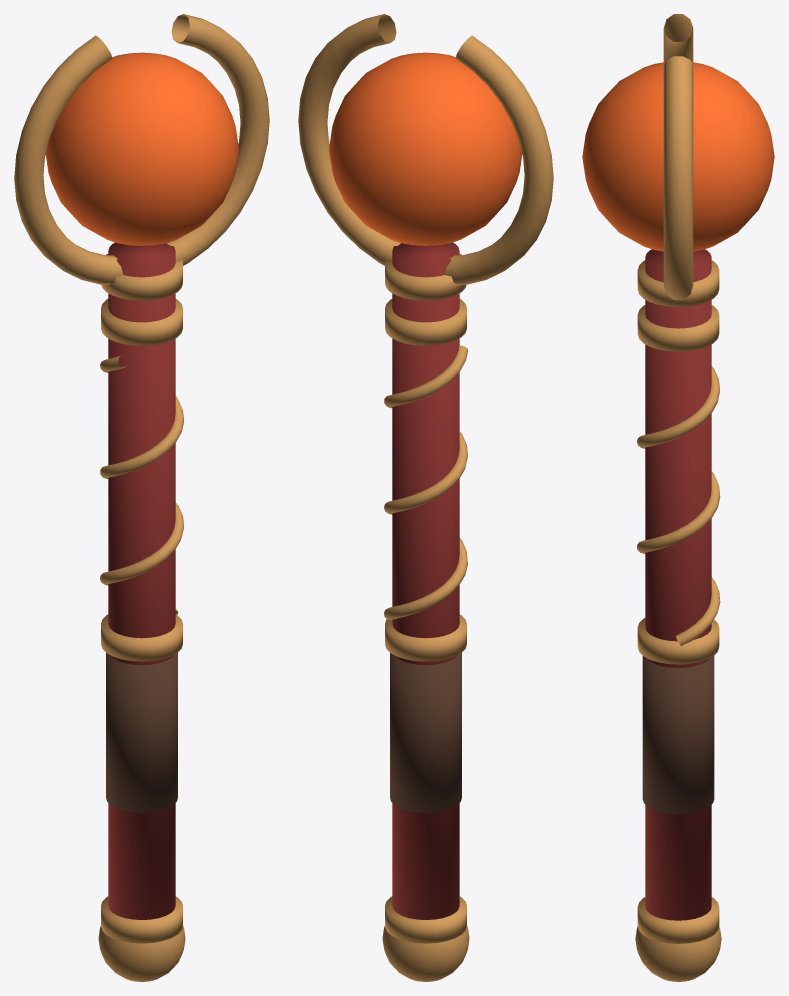
The model's file is draconique.glb.
The picture shows the model from 3 angles, left to right: view 1: azimuth 30°, elevation 25°; view 2: azimuth 150°, elevation 25°; view 3: azimuth 270°, elevation 25°; orthographic projection.
Parts seen in each view (by area): view 1: Arme_draconique; view 2: Arme_draconique; view 3: Arme_draconique.
Part boxes in pixels (x1,y1,x2,y2): Arme_draconique: (14,14,269,981); Arme_draconique: (298,14,553,981); Arme_draconique: (582,14,774,981).
Bounding box in the file's own units: 0.2328 × 0.844 × 0.156.
